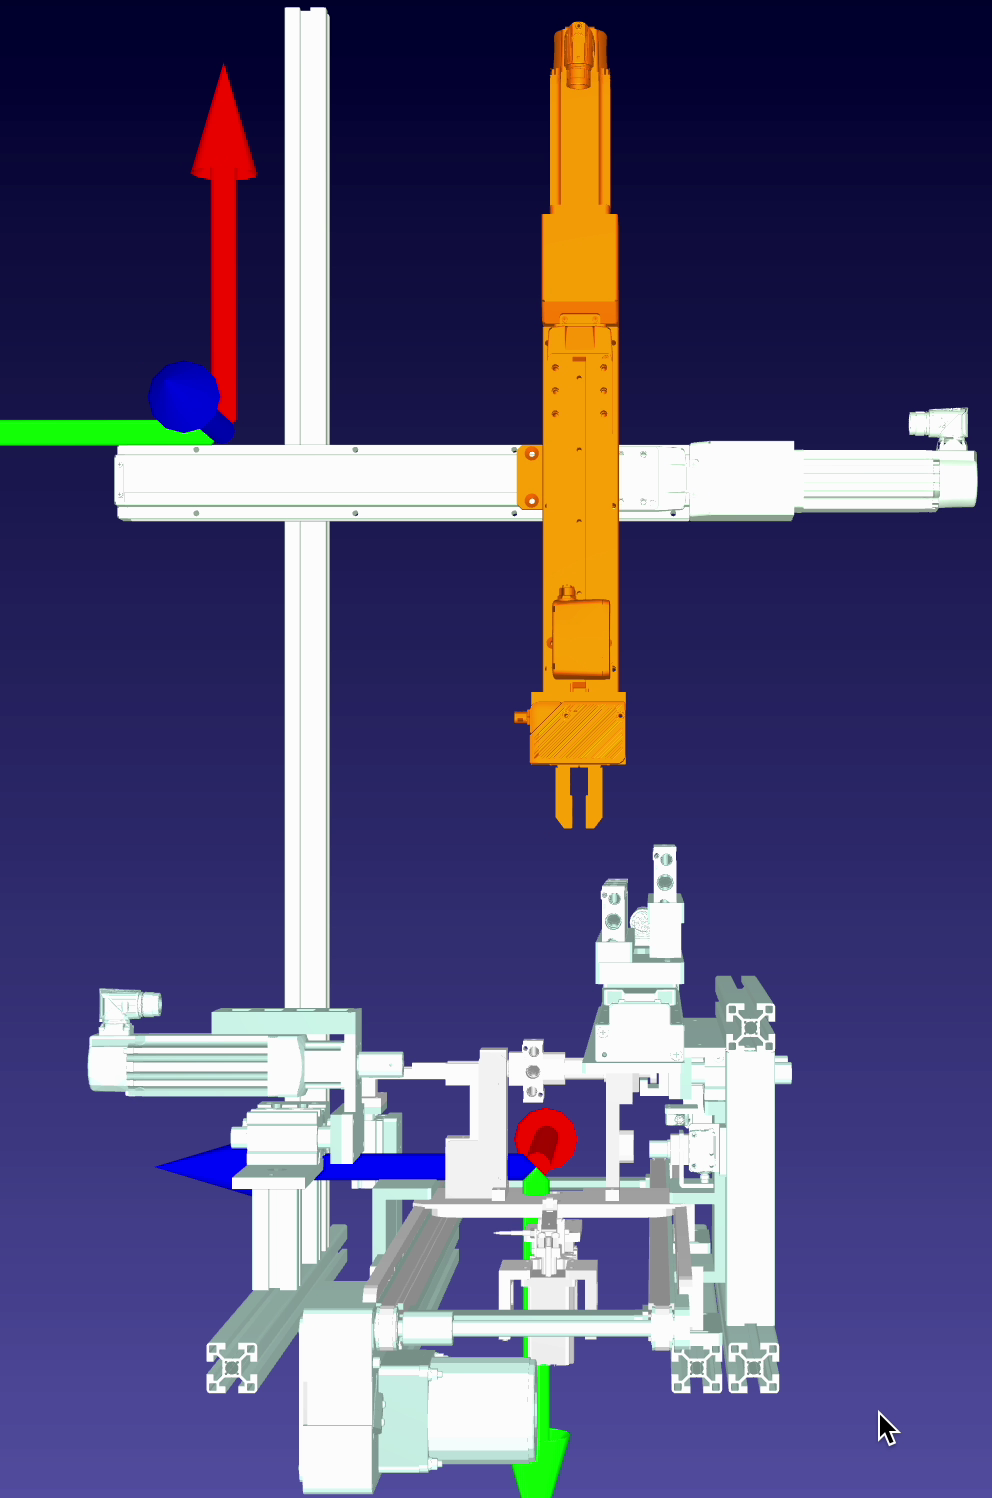Gripper: (515, 678, 638, 834)
